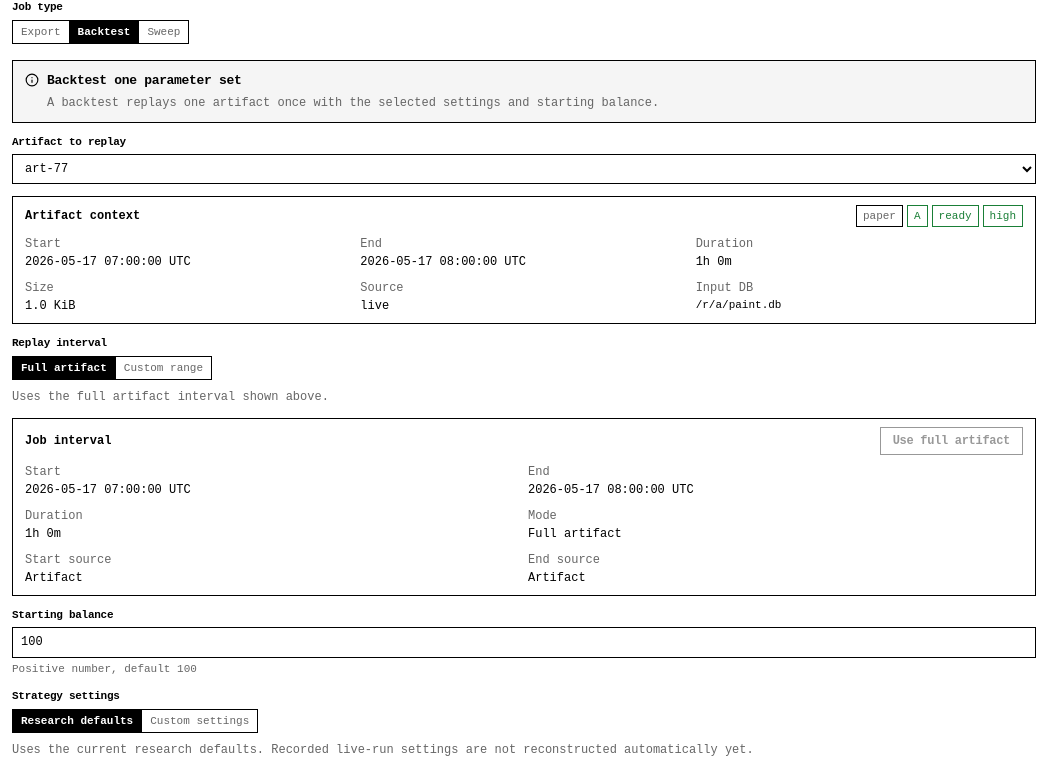
JobCreateForm - backtest › renders custom parameter controls with readable full-width fields
Click the radio button labelled "Custom settings": (200, 721) x1=142 y1=710 x2=257 y2=732
(page scrolled)
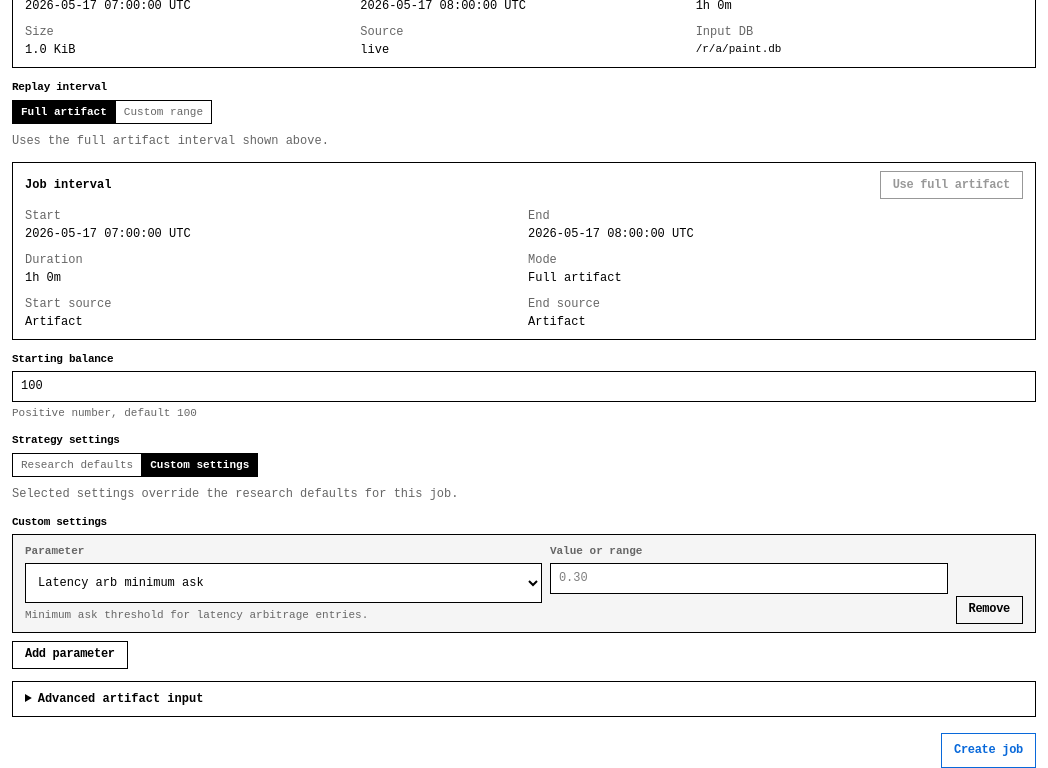
Result: the text "Parameter" is shown at x1=25 y1=545 x2=84 y2=557
Result: the text "Value or range" is shown at x1=550 y1=545 x2=642 y2=557
